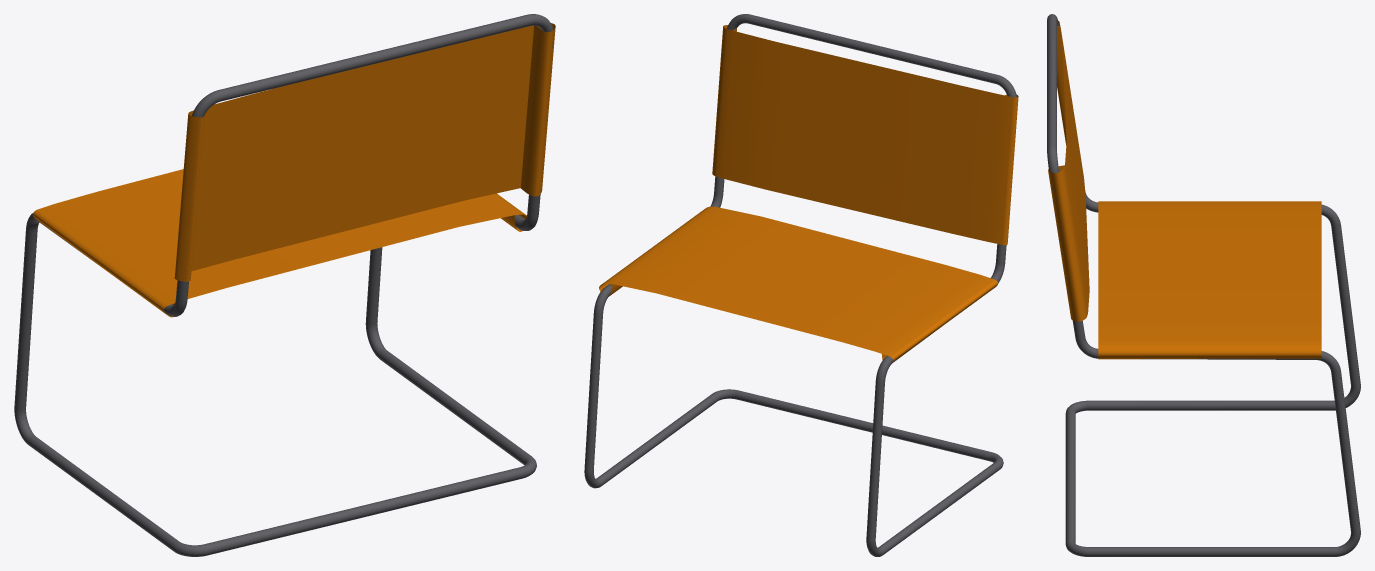
The model's file is Chair.fbx.
3 views of the same model, side by side, from view 1: azimuth 30°, elevation 25°; view 2: azimuth 150°, elevation 25°; view 3: azimuth 270°, elevation 25° (orthographic). The views are drawn at different scales.
Visible parts, largest first — view 1: Chair; view 2: Chair; view 3: Chair.
Part boxes in pixels (left/top/right/bottom): Chair: left=14, top=14, right=555, bottom=556; Chair: left=584, top=14, right=1018, bottom=556; Chair: left=1047, top=14, right=1360, bottom=556.
Size of the model in its own units: 506 by 622 by 440.
